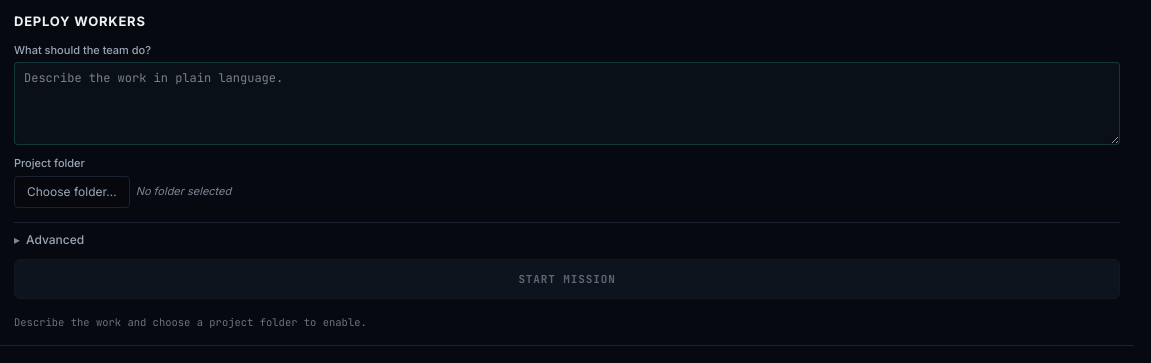
Test: DeployPanel (unified team-launch surface) › disables Start until objective and folder are both set
The width and height of the screenshot is (1151, 363).
expect the button "Start mission" is disabled: met, box [14,259,1120,299]
Type "Add /api/logout" into the text box named "mission objective".
click(567, 104); type("Add /api/logout")  # box [14,62,1120,145]
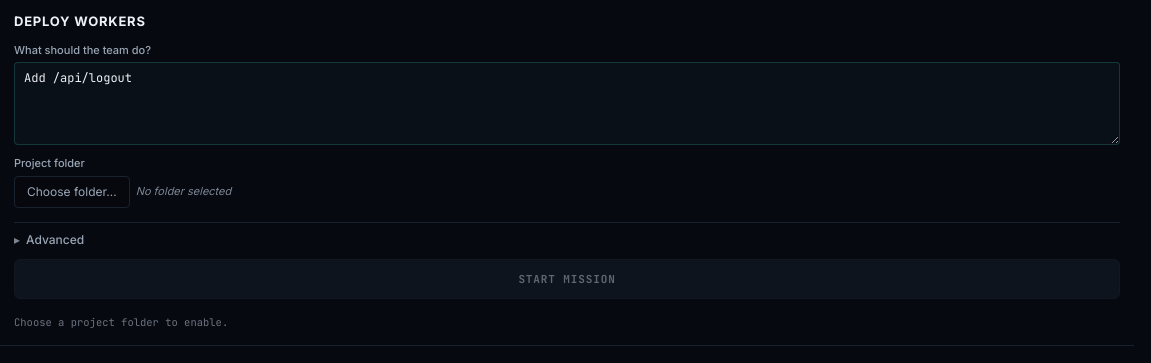
expect the button "Start mission" is disabled: met, box [14,259,1120,299]
Click the button with aria-label "browse for project folder".
click(72, 192)  # box [14,176,130,208]
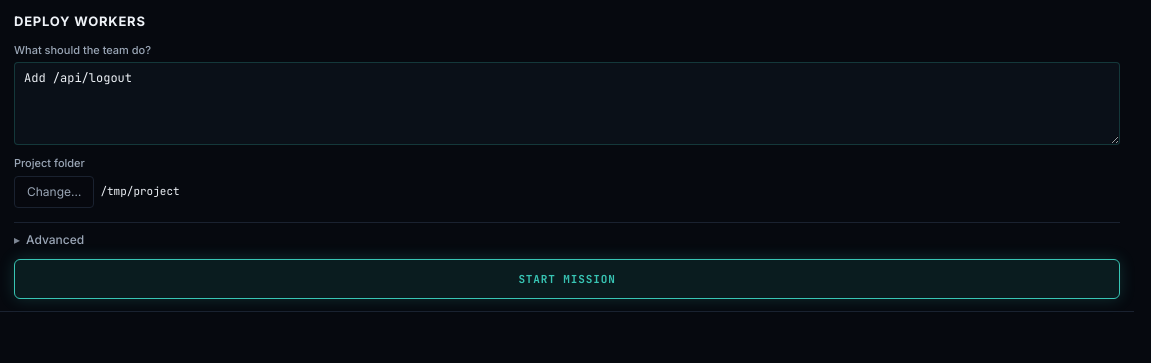
expect the text "/tmp/project" is shown: met, box [100,184,180,198]
expect the button "Start mission" is enabled: met, box [14,259,1120,299]
